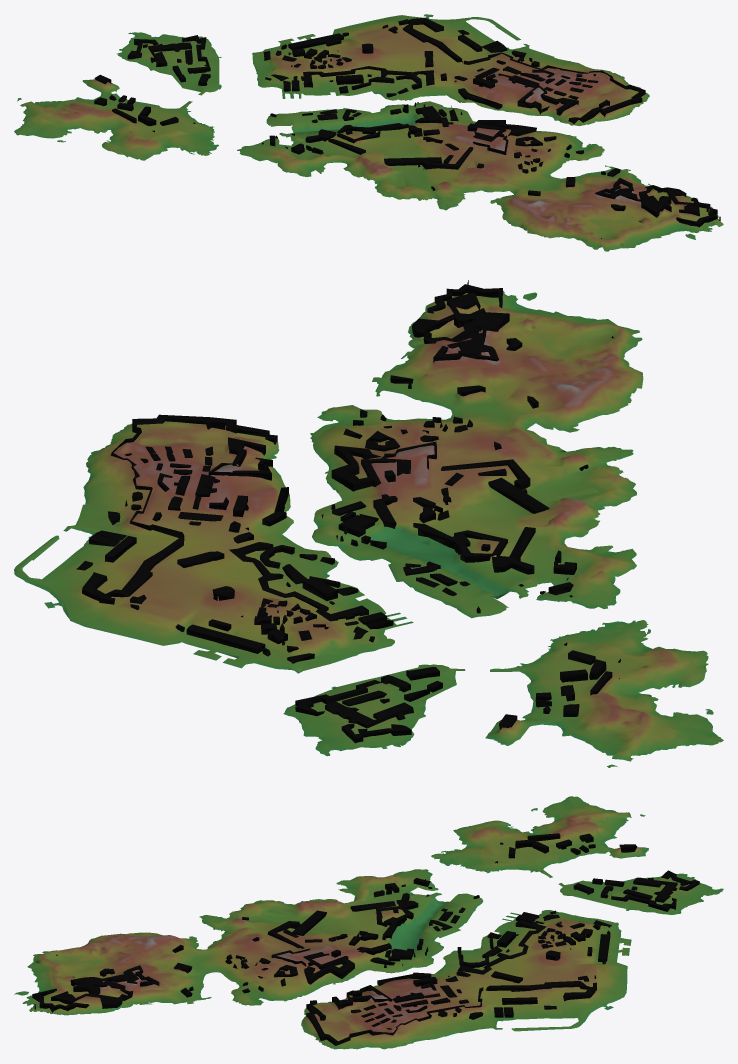
Rendered from Finland_Landmark.glb.
3 renders of one model, top to bottom at view 1: azimuth 30°, elevation 25°; view 2: azimuth 150°, elevation 25°; view 3: azimuth 270°, elevation 25°, orthographic. The views are drawn at different scales.
Visible parts, largest first — view 1: land_landMat_0; view 2: land_landMat_0; view 3: land_landMat_0.
Boxes of the visible parts, left/top/right/bottom form: land_landMat_0: left=14, top=14, right=723, bottom=251; land_landMat_0: left=14, top=280, right=723, bottom=767; land_landMat_0: left=14, top=796, right=723, bottom=1049.
Bounding box in the file's own units: 4.88 × 0.1389 × 5.79.
3 materials, 1 textured.
